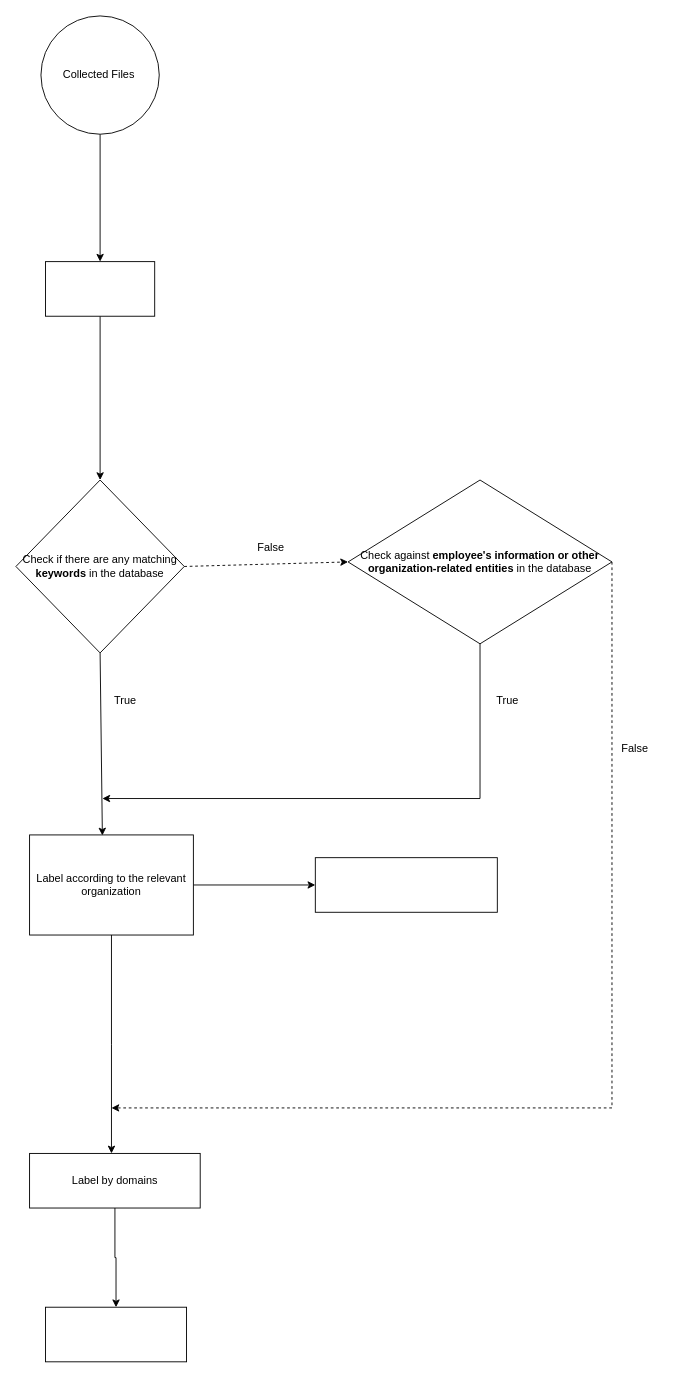
Image size: 673x1378. Some labels were removed from this diagram. Each missing label, with the box of its shape:
Push to Elasticsearch: (45, 1306, 187, 1362)
Read/Parse: (45, 261, 155, 316)
Send alert to organization: (314, 857, 497, 912)
